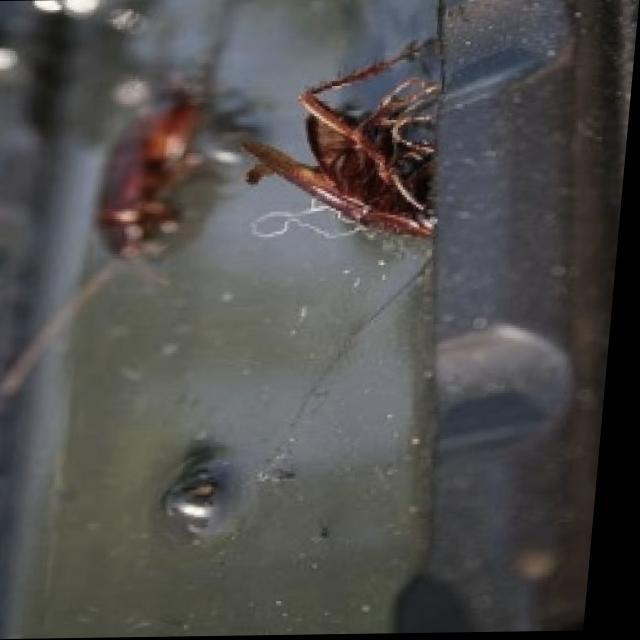cockroach: (238, 36, 447, 244)
